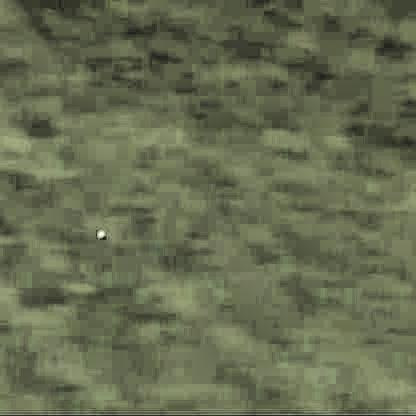golfball: (94, 224, 104, 235)
